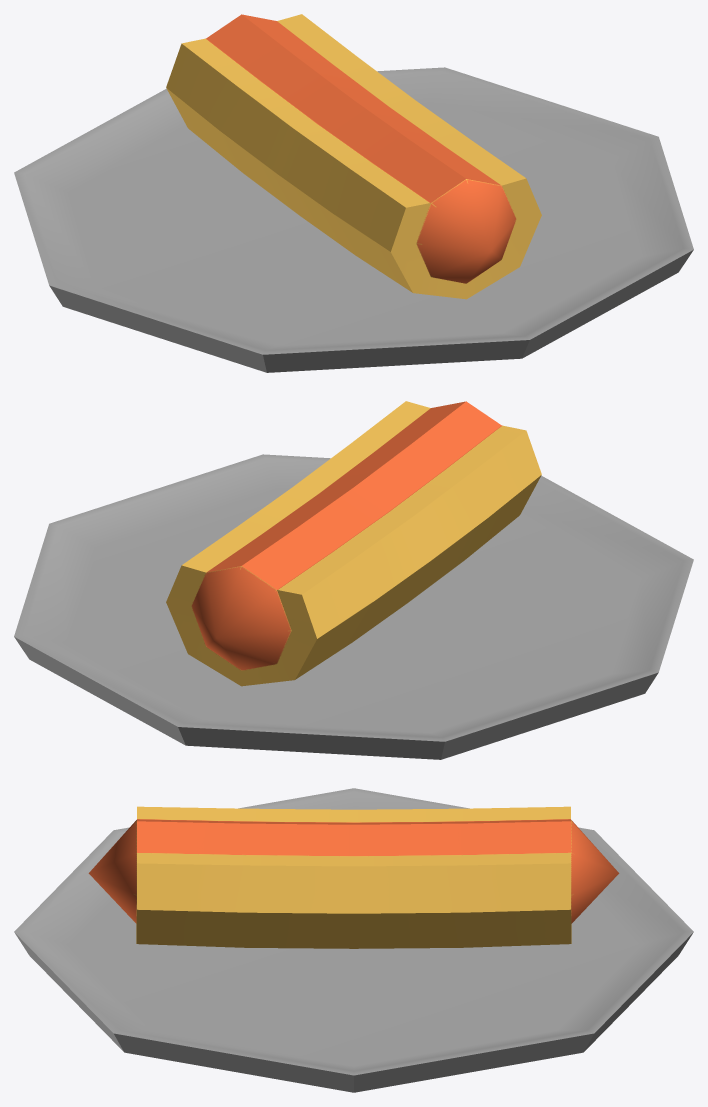
Rendered from hotdog.fbx.
The picture shows the model from 3 angles, top to bottom: view 1: azimuth 30°, elevation 25°; view 2: azimuth 150°, elevation 25°; view 3: azimuth 270°, elevation 25°; orthographic projection. The views are drawn at different scales.
Parts seen in each view (by area): view 1: Plate, doggie; view 2: Plate, doggie; view 3: Plate, doggie.
Boxes of the visible parts, box(x1,y1,x2,y2) form: Plate: box(14, 67, 693, 372); doggie: box(166, 14, 541, 299); Plate: box(14, 454, 693, 759); doggie: box(166, 401, 541, 686); Plate: box(14, 788, 693, 1092); doggie: box(88, 806, 619, 948).
Size of the model in its own units: 1.16 by 0.2533 by 1.16.
